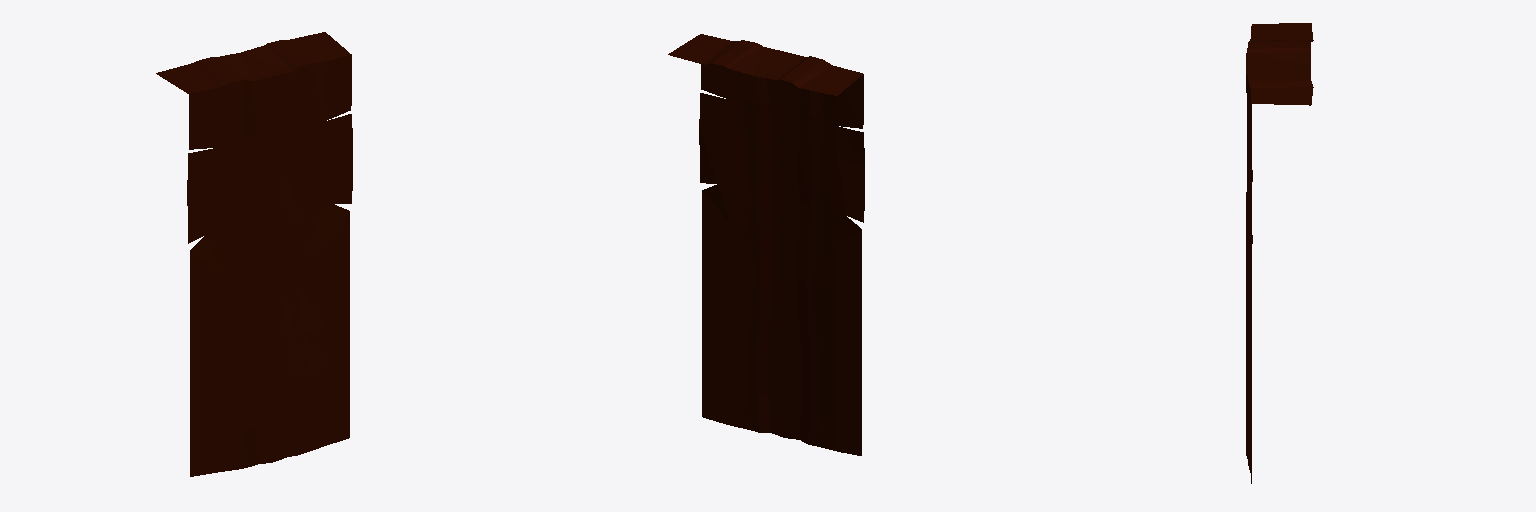
File: Flag_Wall.obj
3 renders of one model, left to right at view 1: azimuth 30°, elevation 25°; view 2: azimuth 150°, elevation 25°; view 3: azimuth 270°, elevation 25°, orthographic.
Visible parts, largest first — view 1: Flag_Wall_Cylinder.040; view 2: Flag_Wall_Cylinder.040; view 3: Flag_Wall_Cylinder.040.
Boxes of the visible parts, <box> form: Flag_Wall_Cylinder.040: <box>156,32,352,476</box>; Flag_Wall_Cylinder.040: <box>668,34,864,455</box>; Flag_Wall_Cylinder.040: <box>1246,23,1313,483</box>.
Bounding box in the file's own units: 0.9235 × 2.02 × 0.316.